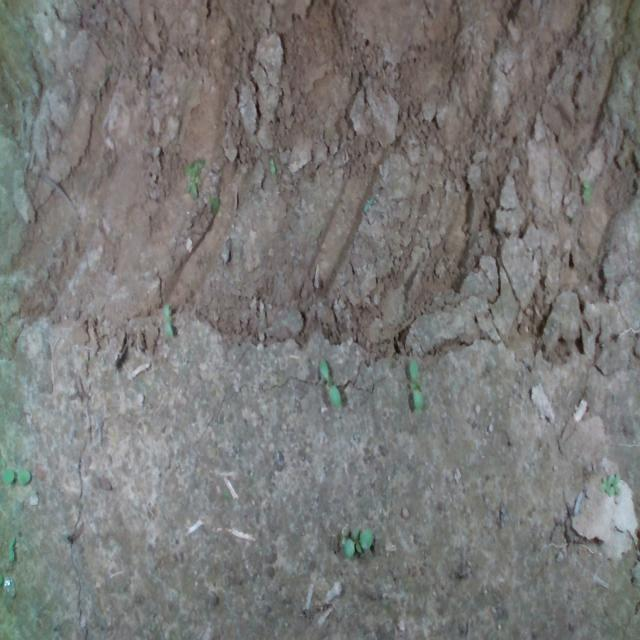weed: (318, 356, 342, 407), (342, 524, 374, 558), (408, 356, 424, 410), (1, 464, 31, 484), (162, 299, 174, 341), (6, 532, 16, 562)
